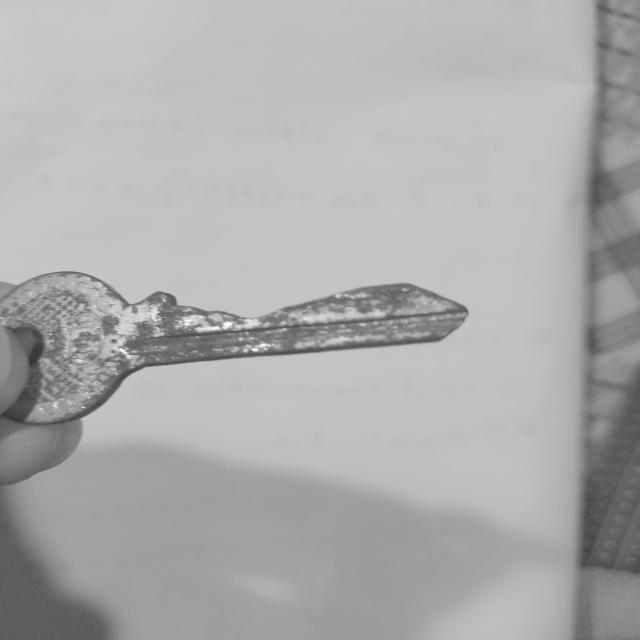KEY: (0, 272, 467, 424)
